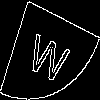W: (25, 24, 74, 85)
